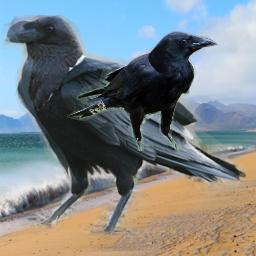Crow: (1, 15, 246, 236), (67, 31, 219, 151)
